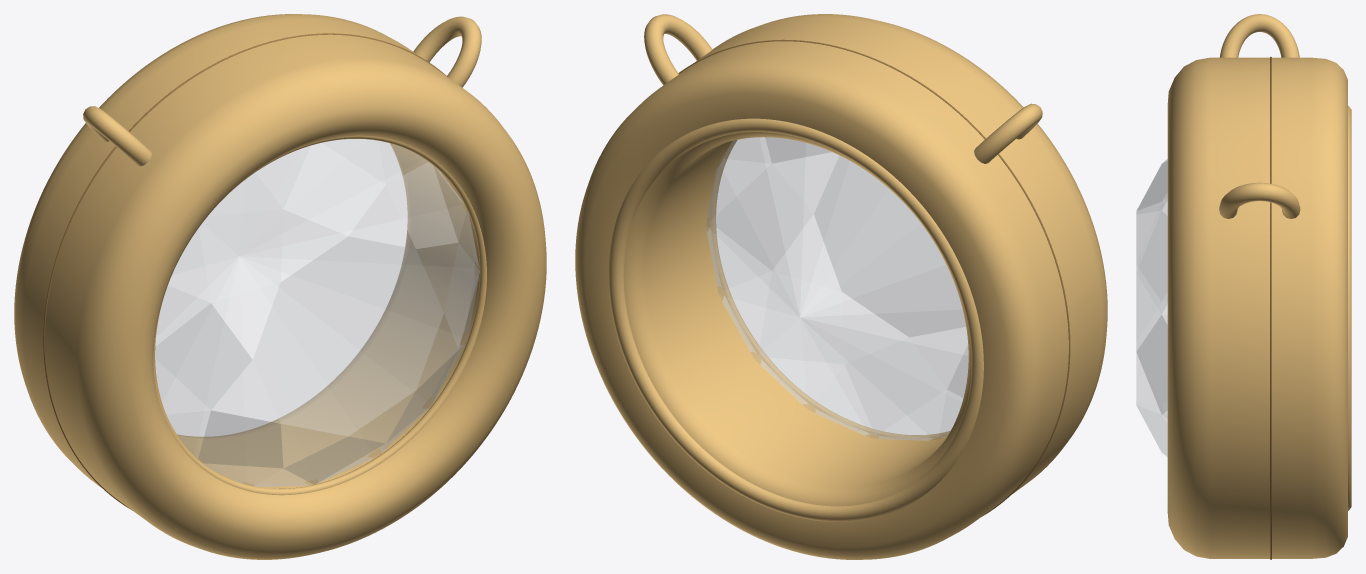
The model's file is pendant.glb.
3 renders of one model, left to right at view 1: azimuth 30°, elevation 25°; view 2: azimuth 150°, elevation 25°; view 3: azimuth 270°, elevation 25°, orthographic. The views are drawn at different scales.
Parts seen in each view (by area): view 1: Rounded bezel and cylindrical setting, Brilliant cut gemstone, Inner gold lip, Right suspension loop, Left suspension loop, Setting seam; view 2: Rounded bezel and cylindrical setting, Brilliant cut gemstone, Rear rim, Inner gold lip, Right suspension loop, Left suspension loop, Setting seam; view 3: Rounded bezel and cylindrical setting, Brilliant cut gemstone, Left suspension loop, Right suspension loop, Rear rim, Setting seam.
Part boxes in pixels (box(x1,y1,x2,y2)): Rounded bezel and cylindrical setting: box(14, 14, 546, 559); Brilliant cut gemstone: box(155, 139, 479, 486); Inner gold lip: box(153, 135, 486, 495); Right suspension loop: box(413, 16, 481, 87); Left suspension loop: box(83, 106, 151, 166); Setting seam: box(43, 33, 446, 510); Rounded bezel and cylindrical setting: box(575, 14, 1107, 559); Brilliant cut gemstone: box(706, 137, 968, 440); Rear rim: box(608, 118, 983, 521); Inner gold lip: box(711, 140, 950, 438); Right suspension loop: box(644, 14, 712, 85); Left suspension loop: box(974, 103, 1042, 163); Setting seam: box(678, 39, 1070, 516); Rounded bezel and cylindrical setting: box(1167, 57, 1347, 558); Brilliant cut gemstone: box(1136, 159, 1167, 457); Left suspension loop: box(1219, 14, 1299, 57); Right suspension loop: box(1219, 182, 1300, 218); Rear rim: box(1348, 105, 1351, 510); Setting seam: box(1270, 57, 1271, 559).
Size of the model in its own units: 2.02 by 2.02 by 0.8634.
